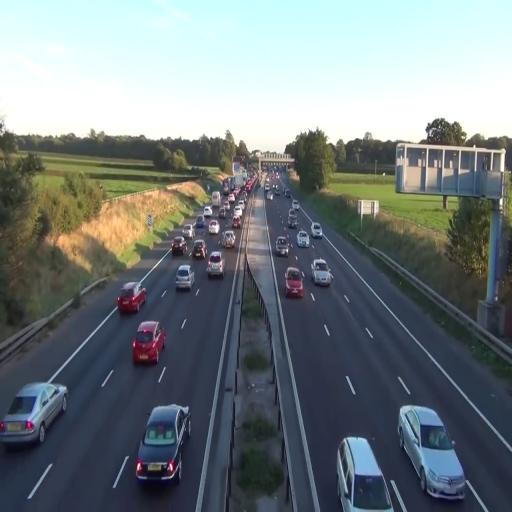vehicle: (397, 404, 466, 500), (135, 403, 191, 486), (0, 381, 68, 448), (336, 435, 393, 512), (132, 320, 166, 366), (116, 281, 146, 317), (311, 258, 332, 287), (285, 266, 304, 298), (175, 264, 194, 291), (206, 251, 225, 278), (190, 240, 208, 262), (274, 234, 290, 256), (171, 236, 187, 258), (221, 229, 236, 251), (296, 231, 310, 248), (233, 208, 243, 228), (312, 222, 322, 238)
